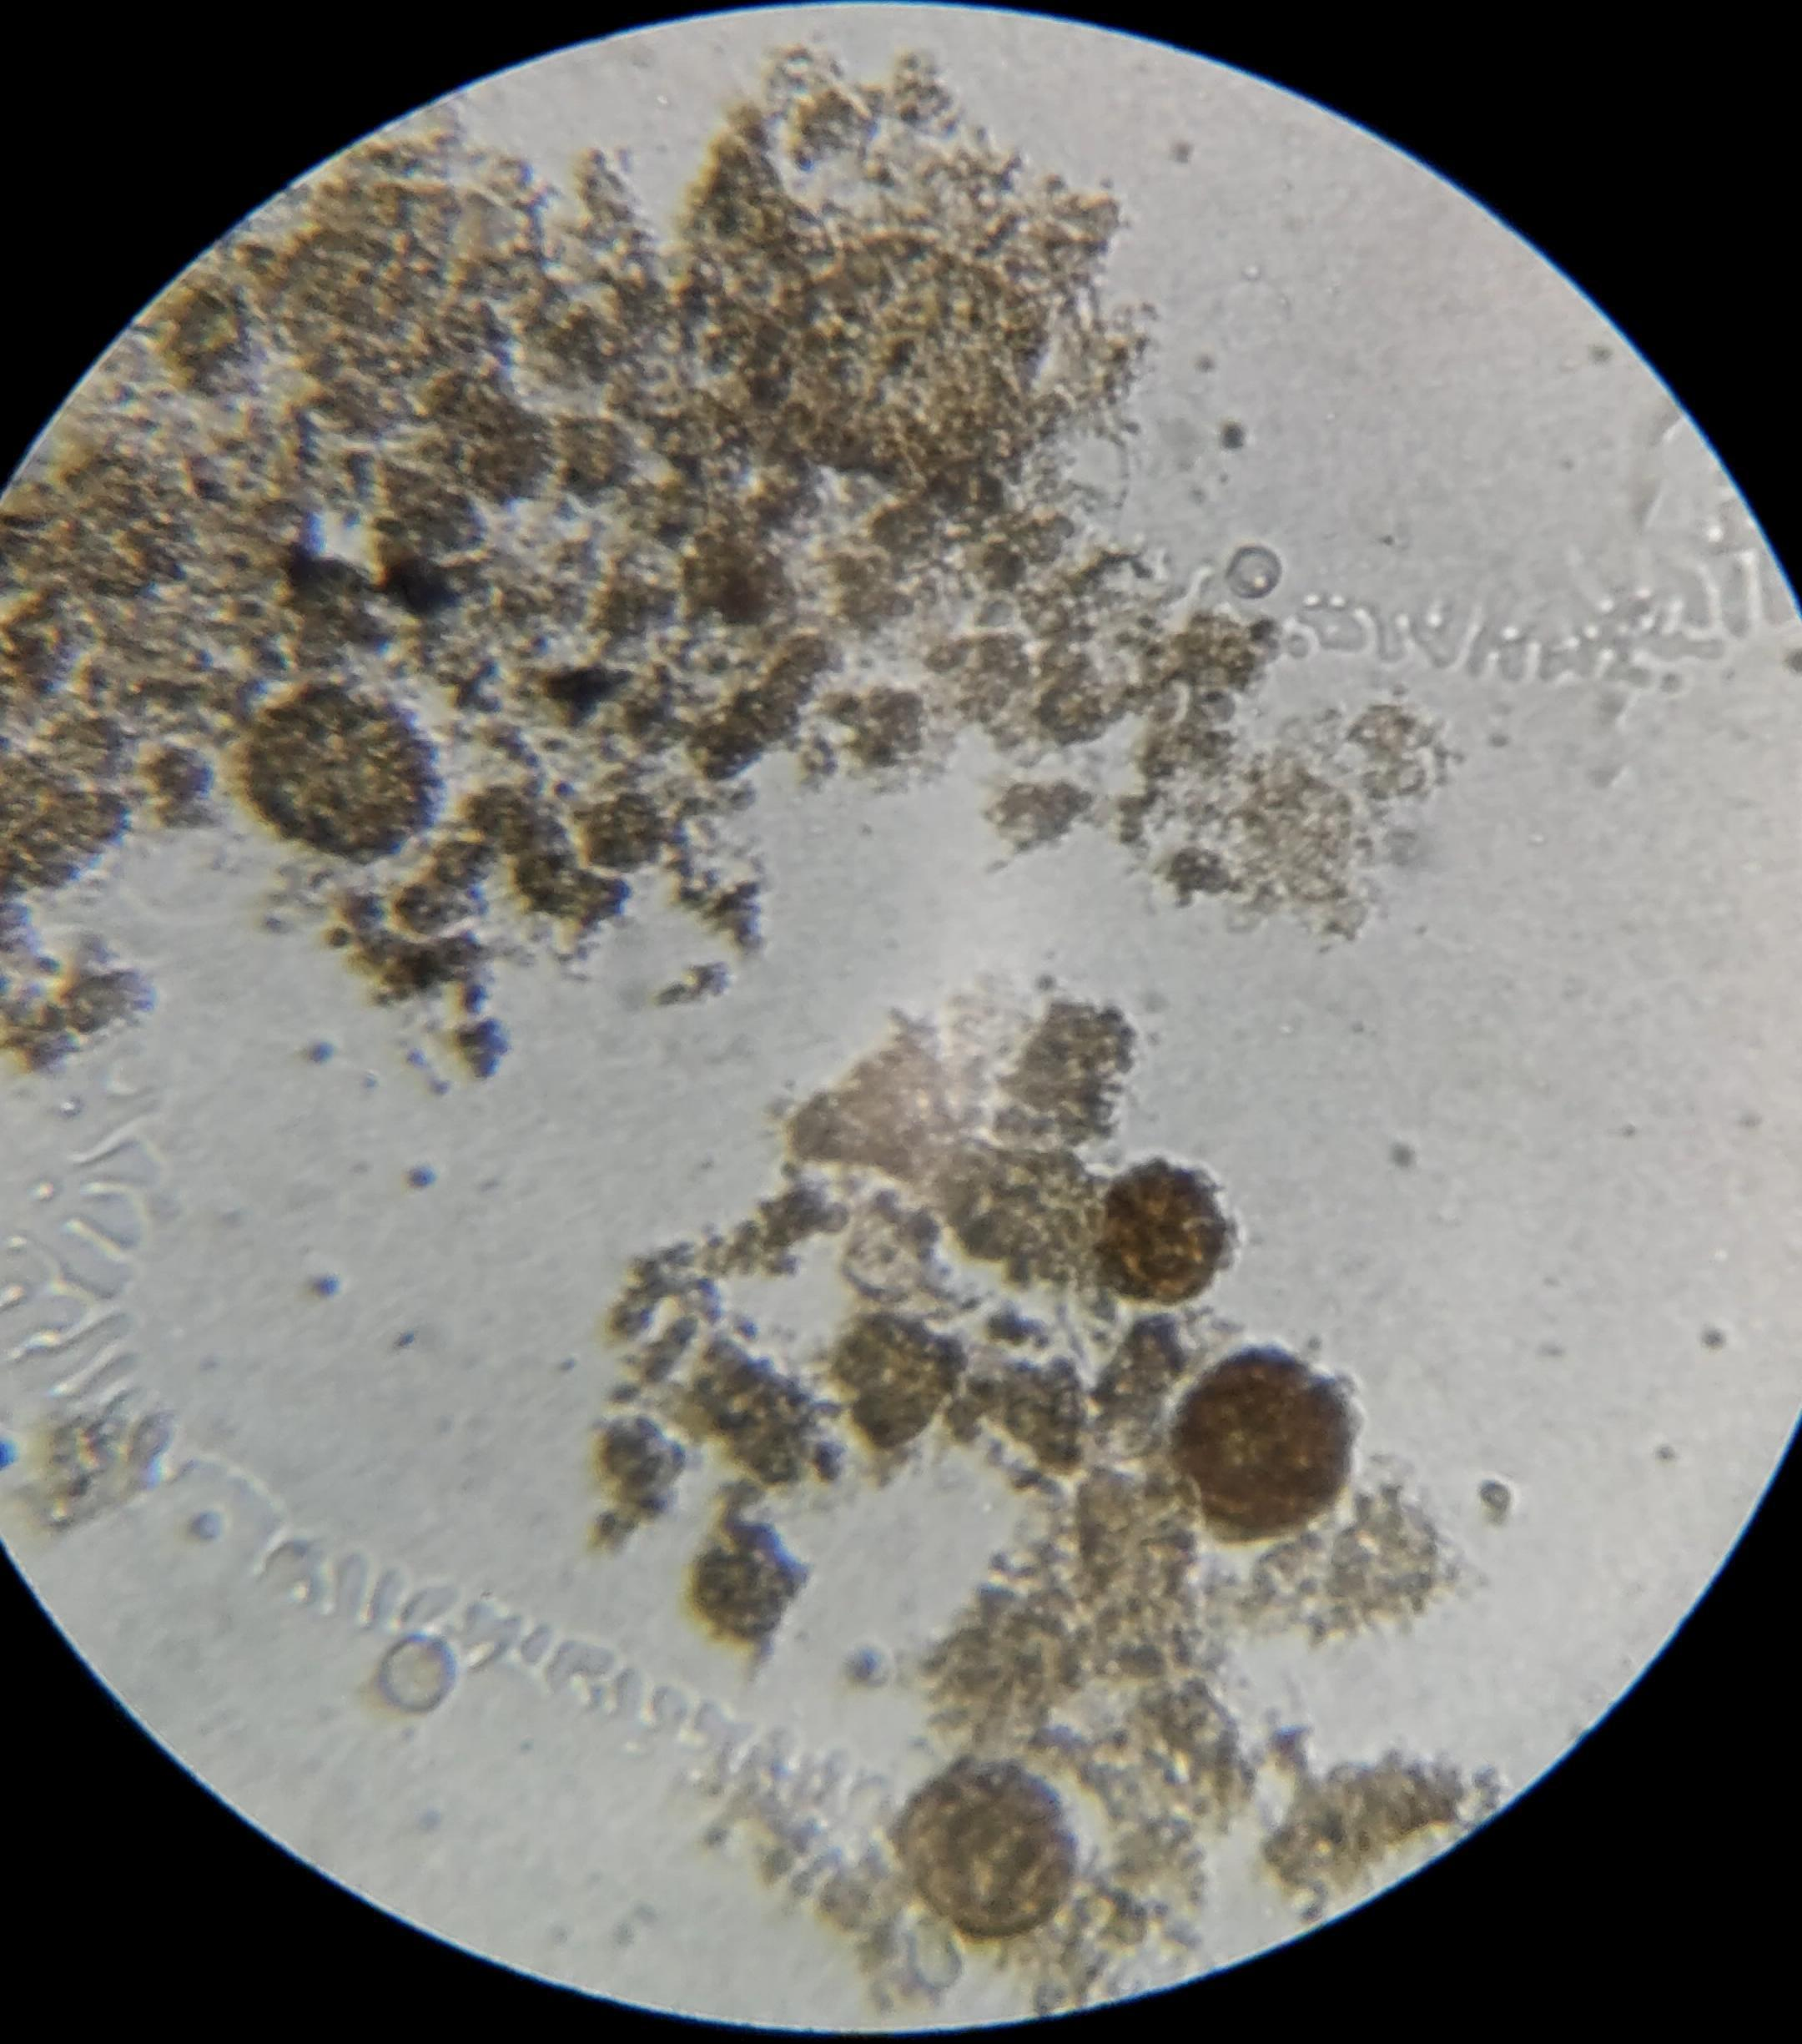Arcella: (1179, 1357, 1345, 1529), (906, 1771, 1070, 1934), (1106, 1169, 1219, 1303)
